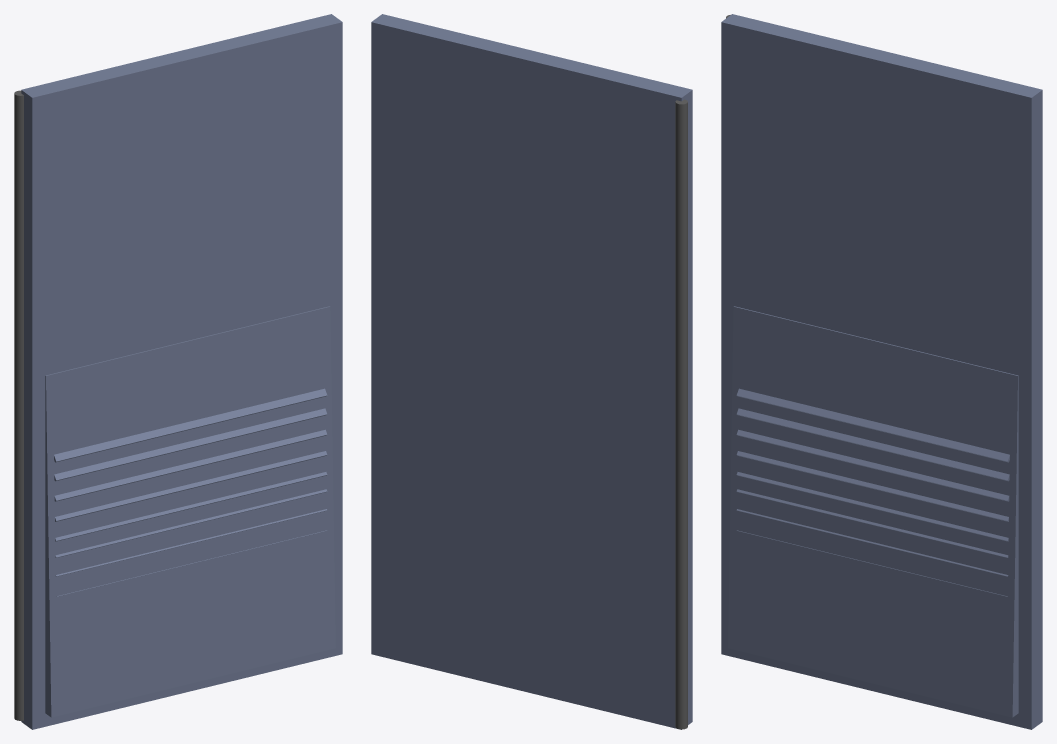
File: SM_exterior_wall_sp_02.fbx
3 views of the same model, side by side, from view 1: azimuth 30°, elevation 25°; view 2: azimuth 150°, elevation 25°; view 3: azimuth 330°, elevation 25° (orthographic).
Visible parts, largest first — view 1: exterior_wall_sp_02; view 2: exterior_wall_sp_02; view 3: exterior_wall_sp_02.
Part boxes in pixels (left/top/right/bottom): exterior_wall_sp_02: left=14, top=14, right=342, bottom=729; exterior_wall_sp_02: left=371, top=14, right=692, bottom=729; exterior_wall_sp_02: left=721, top=14, right=1042, bottom=729.
Bounding box in the file's own units: 221 × 422 × 24.95.
